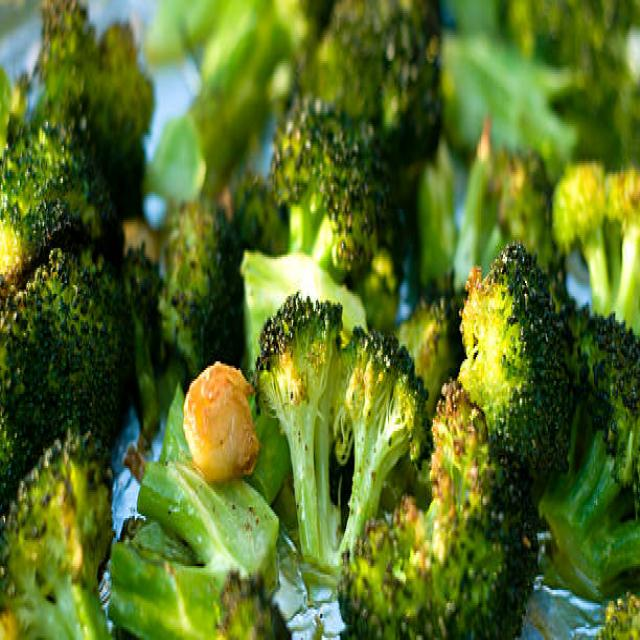Broccoli head: (264, 283, 432, 608), (274, 5, 433, 266), (0, 422, 127, 640), (482, 242, 599, 469), (30, 26, 150, 245), (1, 266, 130, 457)
